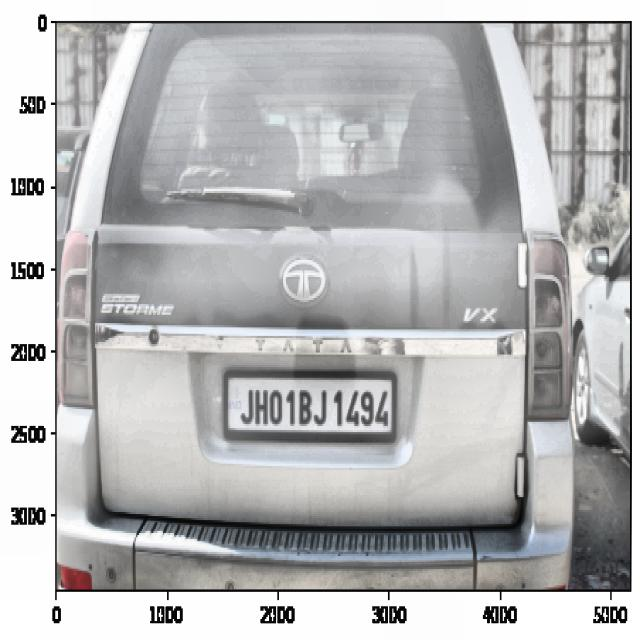license_plate: (233, 379, 392, 435)
